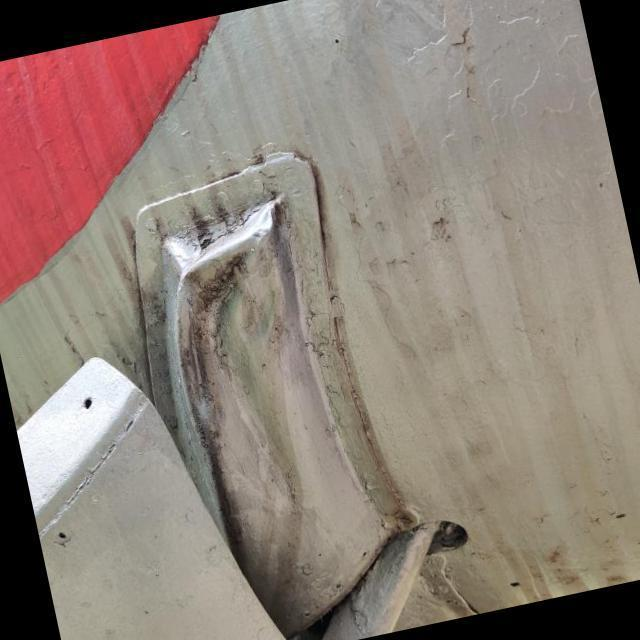Dent: (122, 180, 386, 612)
